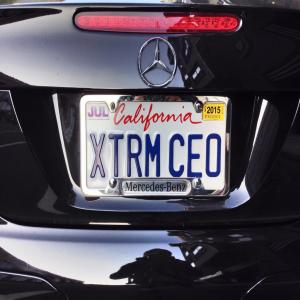Vehicle-registration-plate: (65, 94, 237, 213)
